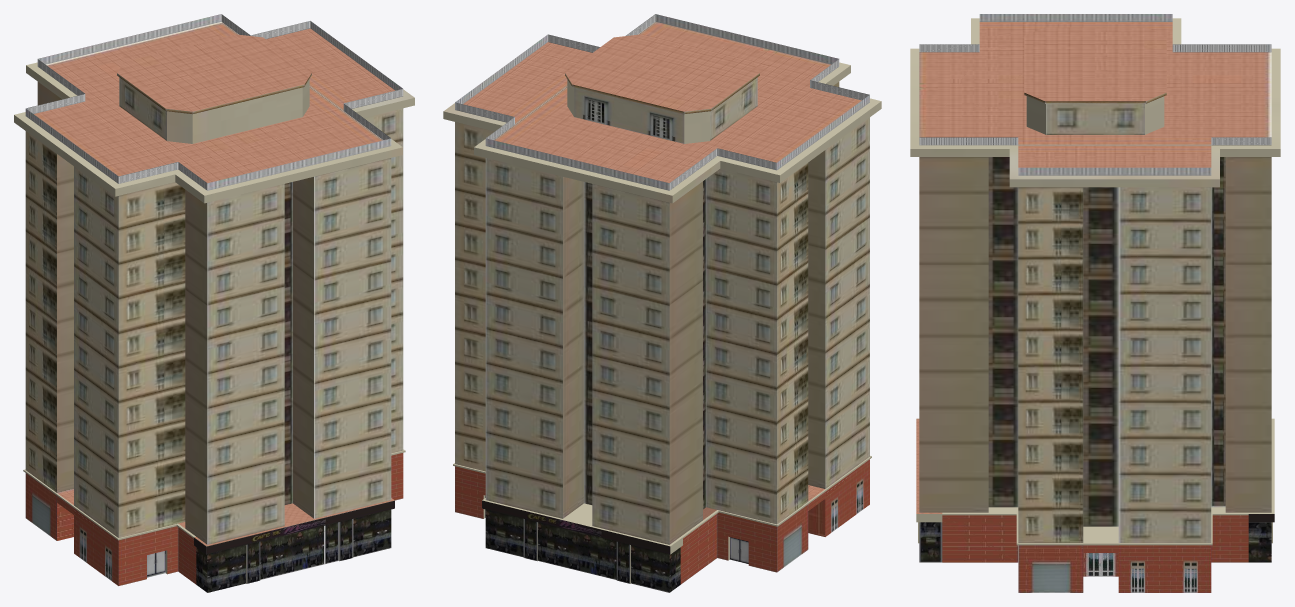
3 views of the same model, side by side, from view 1: azimuth 30°, elevation 25°; view 2: azimuth 150°, elevation 25°; view 3: azimuth 270°, elevation 25° (orthographic). The views are drawn at different scales.
Visible parts, largest first — view 1: HN469___N5A; view 2: HN469___N5A; view 3: HN469___N5A.
Boxes of the visible parts, x1,y1,x2,y2 form: HN469___N5A: (14, 14, 414, 592); HN469___N5A: (443, 14, 881, 592); HN469___N5A: (910, 14, 1280, 592).
Bounding box in the file's own units: 34.6 × 45.25 × 33.6.
Materials: 1 (1 with a texture image).
